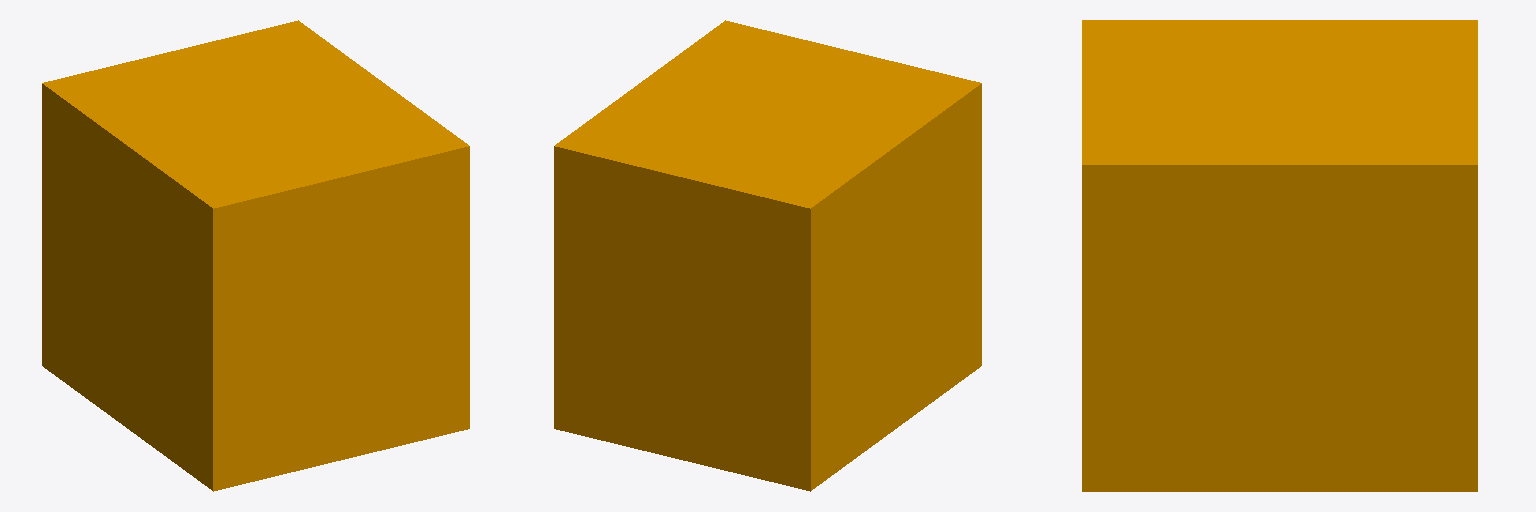
URDF robot description (object):
<robot name="object">
  <link name="object">
    <visual>
      <origin xyz="0 0 0" />
      <geometry>
        <box size="0.07600000000000001 0.08800000000000002 0.08" />
      </geometry>
    </visual>

    <collision>
      <origin xyz="0 0 0" />
      <geometry>
        <box size="0.07600000000000001 0.08800000000000002 0.08" />
      </geometry>
    </collision>

    <inertial>
      <mass value="0.05" />
      <inertia ixx="0.0001" ixy="0.0" ixz="0.0" iyy="0.0001" iyz="0.0" izz="0.0001" />
    </inertial>
  </link>
</robot>

--- Facts derived from the render (not from the file) ---
Views: 3 orthographic renders of the robot side by side, from view 1: azimuth 30°, elevation 25°; view 2: azimuth 150°, elevation 25°; view 3: azimuth 270°, elevation 25°.
Robot: object — 1 links, 0 joints (none); root link object; default pose: every joint at zero.
Links seen in each view (by area): view 1: object; view 2: object; view 3: object.
Link boxes in pixels (x1,y1,x2,y2): object: (42, 20, 469, 491); object: (554, 20, 981, 491); object: (1082, 20, 1477, 491).
Bounding box of the posed robot: 0.076 × 0.088 × 0.08 m (x, y, z).
Geometry: primitives only (box / cylinder / sphere), no mesh files.